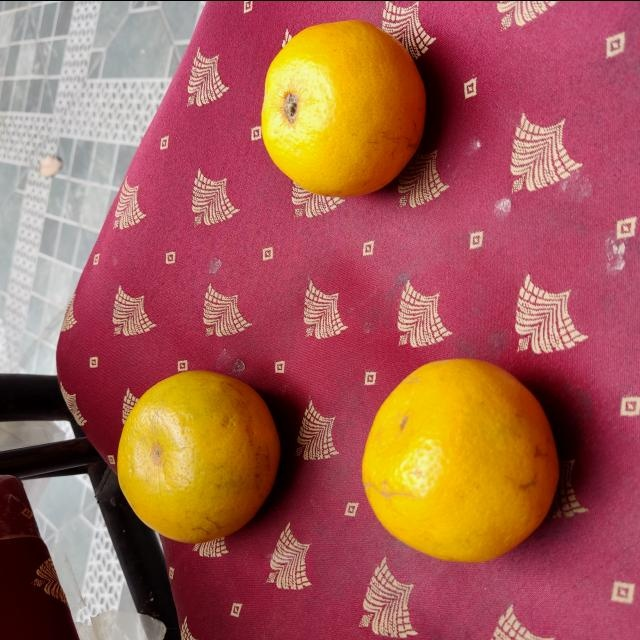agrume: (360, 356, 560, 568), (259, 17, 427, 195)
